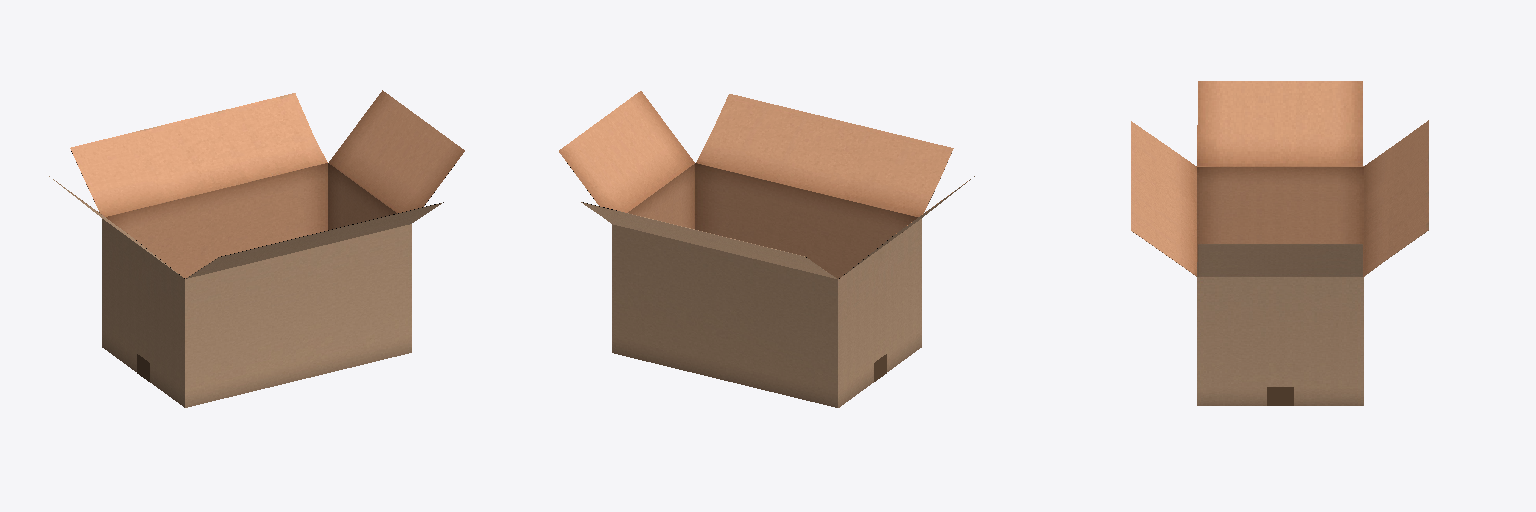
3 views of the same model, side by side, from view 1: azimuth 30°, elevation 25°; view 2: azimuth 150°, elevation 25°; view 3: azimuth 270°, elevation 25° (orthographic).
Parts seen in each view (by area): view 1: Cube_Cube.001; view 2: Cube_Cube.001; view 3: Cube_Cube.001.
Boxes of the visible parts, x1=… form: Cube_Cube.001: x1=49, y1=90, x2=464, y2=407; Cube_Cube.001: x1=559, y1=91, x2=974, y2=407; Cube_Cube.001: x1=1131, y1=81, x2=1428, y2=405.
Size of the model in its own units: 81.51 by 43.72 by 62.47.
2 materials, 1 textured.